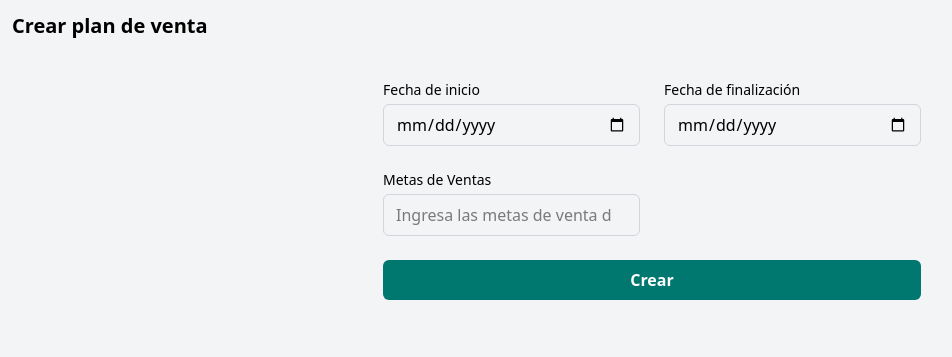
it: Componente CreateSalesPlan › debería mostrar errores de validación al intentar enviar vacío
This screenshot has width=952, height=357.
Click the button "Crear" at (652, 280), box x1=383 y1=260 x2=921 y2=300
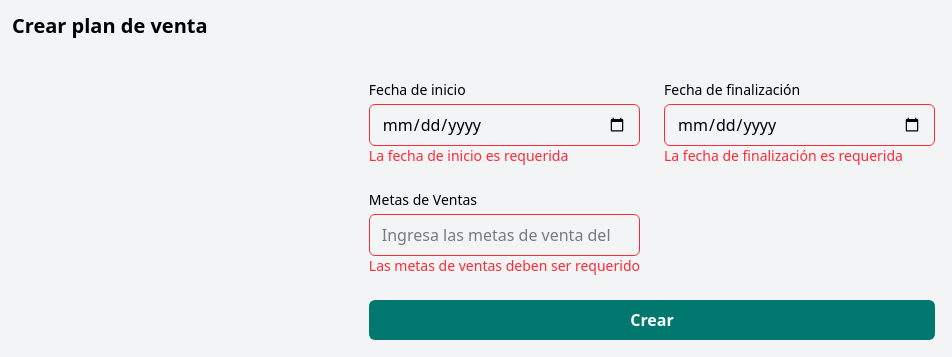
expect the text "La fecha de inicio es requerida" is shown: met, box x1=369 y1=146 x2=568 y2=165
expect the text "La fecha de finalización es requerida" is shown: met, box x1=664 y1=146 x2=935 y2=166
expect the text "Las metas de ventas deben ser requerido" is shown: met, box x1=369 y1=256 x2=640 y2=276
